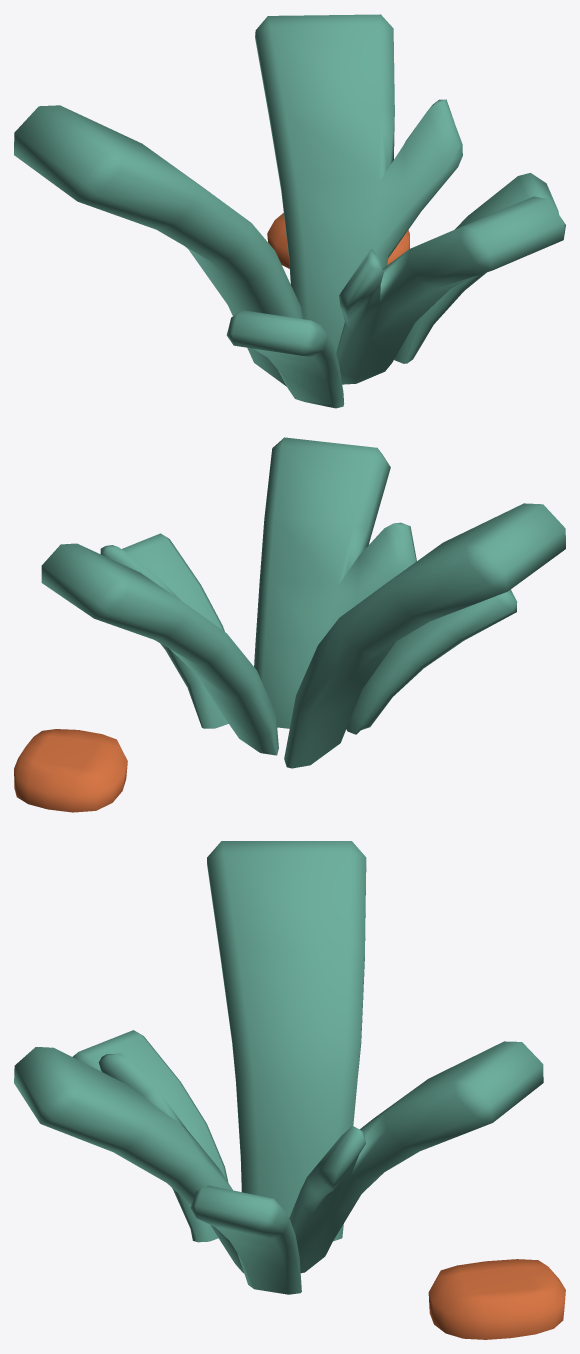
Rendered from blue_grass_large.glb.
3 renders of one model, top to bottom at view 1: azimuth 30°, elevation 25°; view 2: azimuth 150°, elevation 25°; view 3: azimuth 270°, elevation 25°, orthographic. The views are drawn at different scales.
Parts seen in each view (by area): view 1: blue_grass_large; view 2: blue_grass_large; view 3: blue_grass_large.
Part boxes in pixels (x1=…): blue_grass_large: x1=14, y1=14, x2=565, y2=408; blue_grass_large: x1=14, y1=437, x2=565, y2=812; blue_grass_large: x1=14, y1=841, x2=565, y2=1339.
Size of the model in its own units: 1.78 by 1.03 by 1.76.
1 material, 1 textured.
